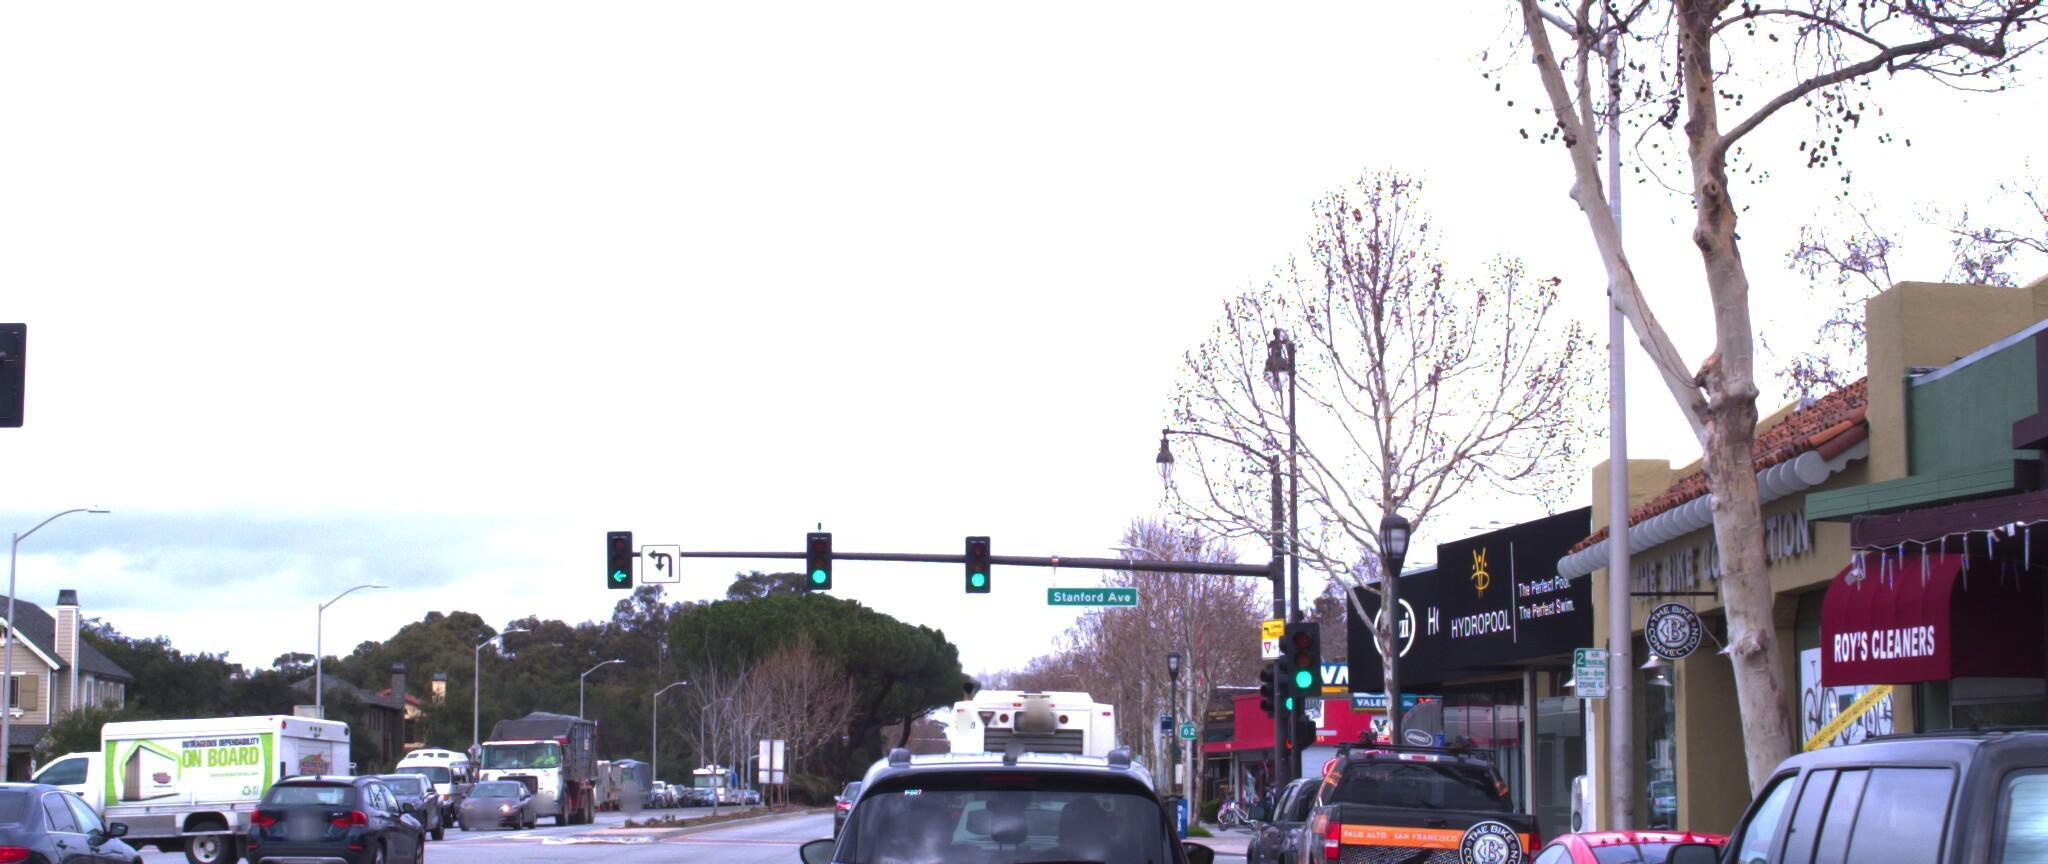car: (1614, 702, 2048, 864), (785, 717, 1226, 864), (1285, 732, 1573, 864), (1245, 765, 1498, 864), (1458, 816, 1920, 864), (229, 760, 438, 864), (0, 760, 172, 864)
truck: (0, 697, 372, 856), (940, 654, 1128, 824)
